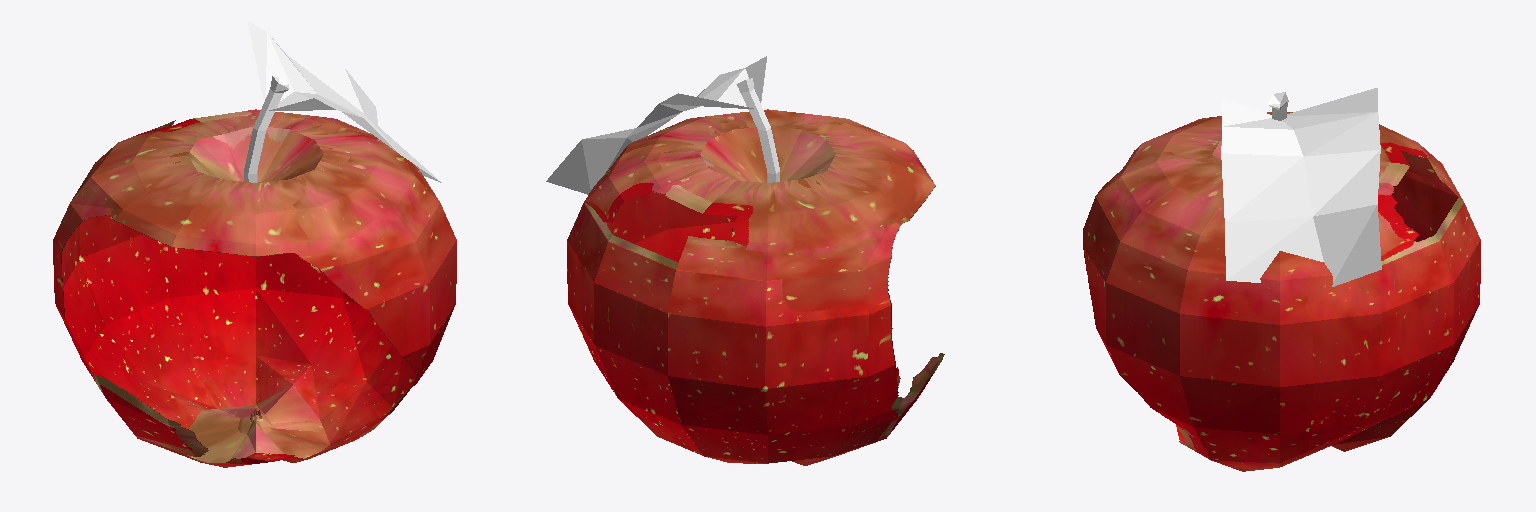
3 renders of one model, left to right at view 1: azimuth 30°, elevation 25°; view 2: azimuth 150°, elevation 25°; view 3: azimuth 270°, elevation 25°, orthographic.
Visible parts, largest first — view 1: Red_apple; view 2: Red_apple; view 3: Red_apple.
Part boxes in pixels (bbox=[...]): Red_apple: bbox=[53, 22, 456, 467]; Red_apple: bbox=[546, 56, 944, 465]; Red_apple: bbox=[1083, 88, 1480, 471].
Size of the model in its own units: 2.02 by 2.09 by 2.02.
3 materials, 1 textured.